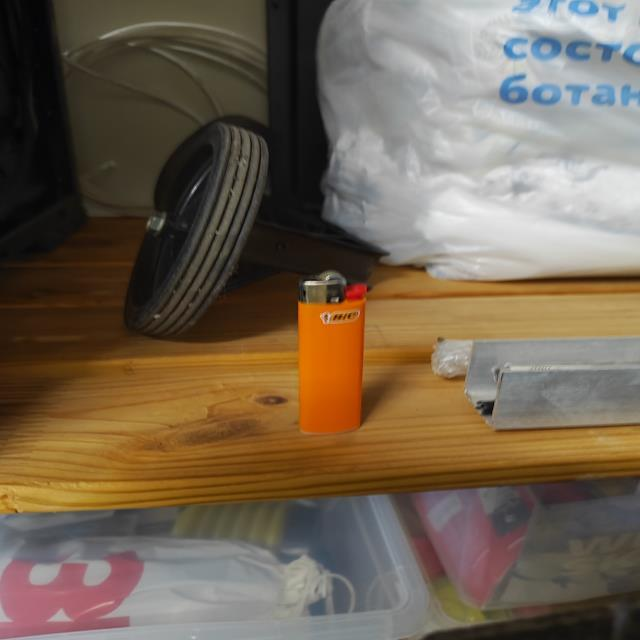lighter: (299, 271, 366, 432)
